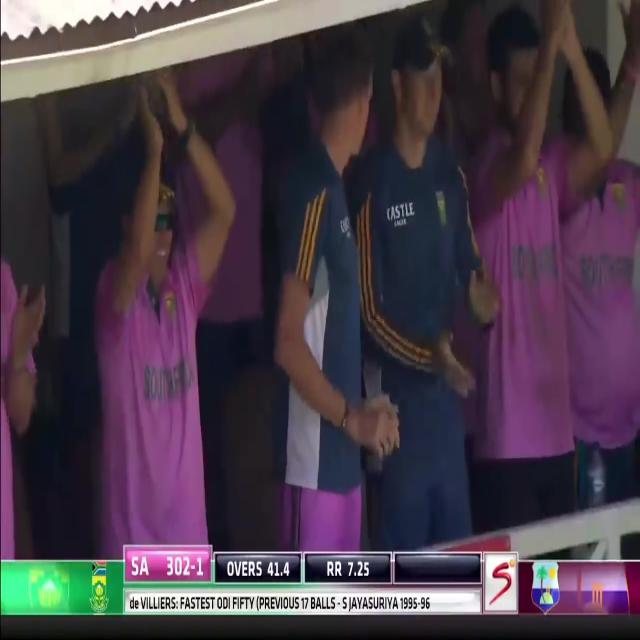Ball: (257, 1, 640, 527), (1, 118, 235, 556)
